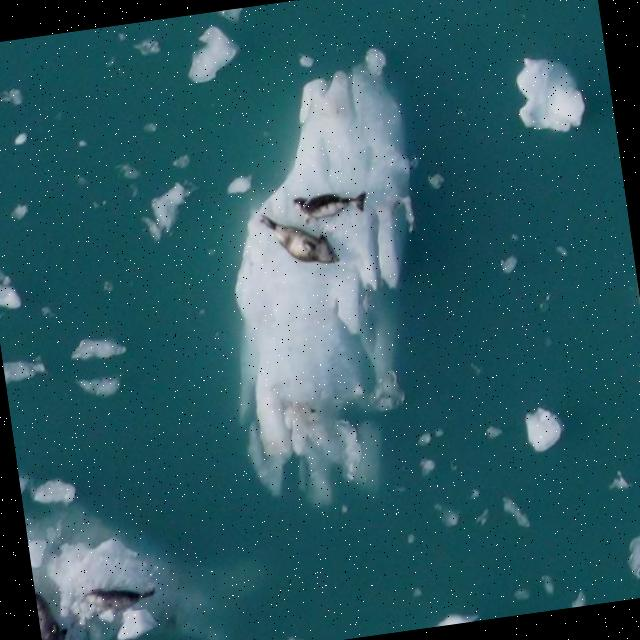seal: (260, 216, 341, 267), (83, 588, 154, 616), (295, 195, 364, 221), (37, 594, 68, 640)
